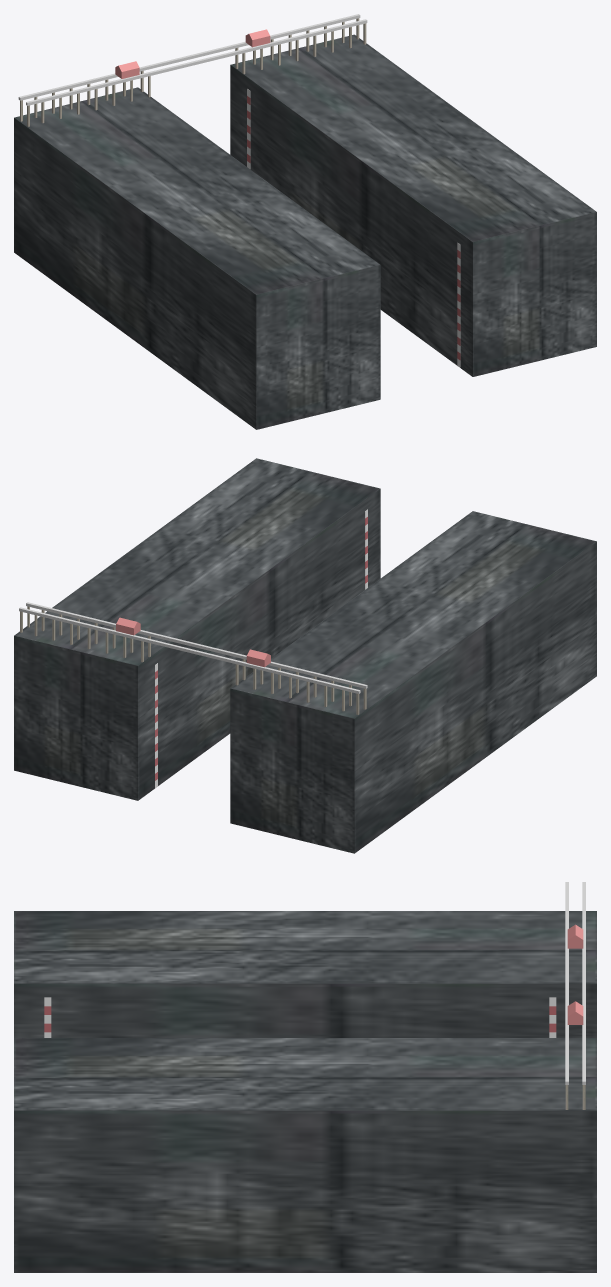
Rendered from chuanzha.gltf.
3 views of the same model, one above another, from view 1: azimuth 30°, elevation 25°; view 2: azimuth 150°, elevation 25°; view 3: azimuth 270°, elevation 25° (orthographic). The views are drawn at different scales.
Parts seen in each view (by area): view 1: chuanzha; view 2: chuanzha; view 3: chuanzha.
Boxes of the visible parts, <box> form: chuanzha: <box>14,14,596,429</box>; chuanzha: <box>14,458,596,853</box>; chuanzha: <box>14,882,596,1272</box>.
Size of the model in its own units: 25686 by 12264 by 31673.
6 materials, 3 textured.
